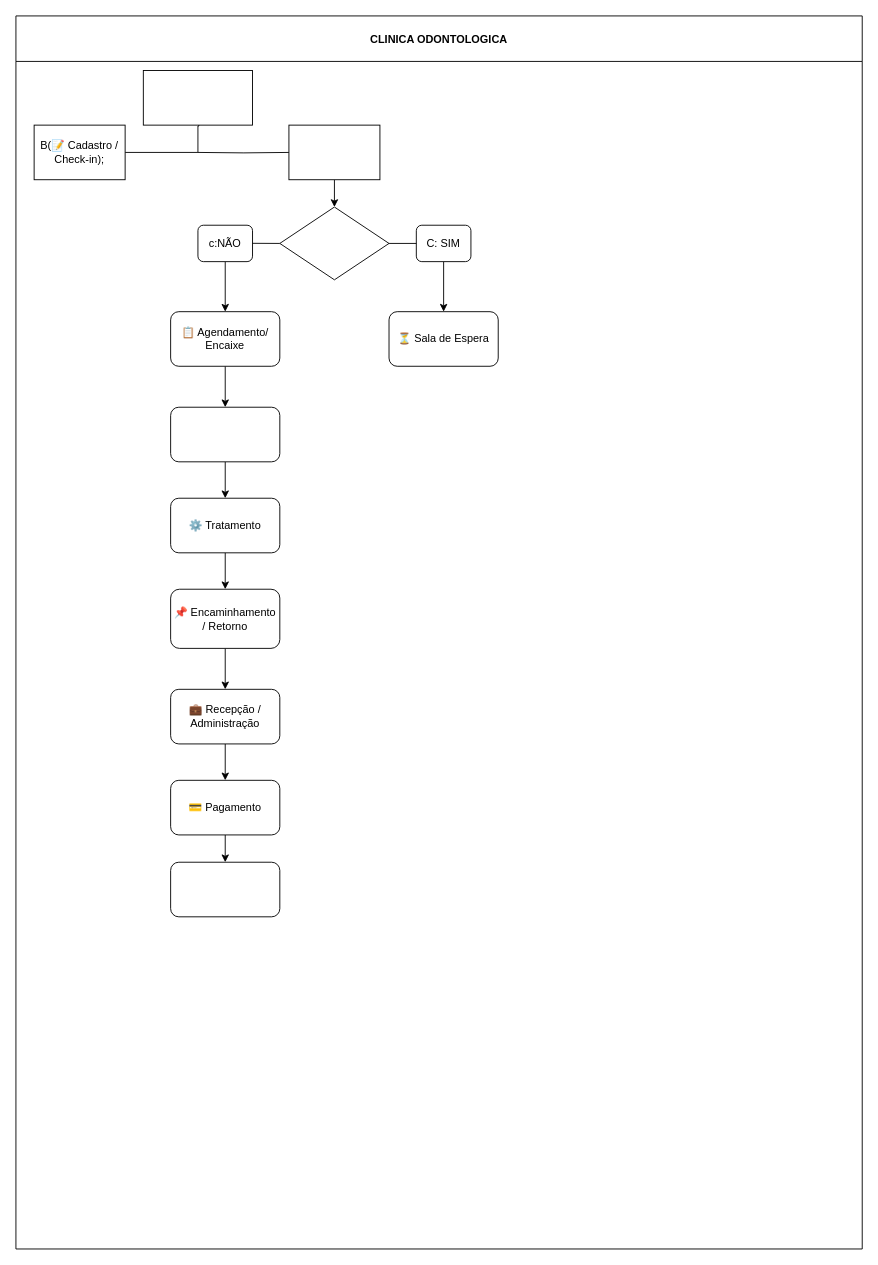
This 878x1265 diagram has some shape labels left out. The box of each missing label's shape, as (x1, y1, x2, y2) in pixels:
A[🏥 Entrada do Paciente]: (142, 70, 253, 125)
B --> C{📅 Consulta Marcada?};: (288, 124, 380, 180)
SIM OU NÃO: (279, 206, 389, 280)
👨‍⚕️ Consulta Odontológica: (170, 406, 280, 462)
🚪 Saída do Paciente: (170, 861, 280, 917)
